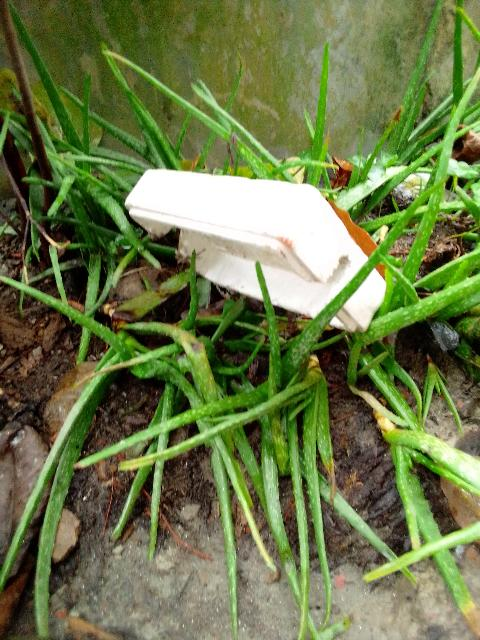cocksheet: (111, 159, 390, 335)
